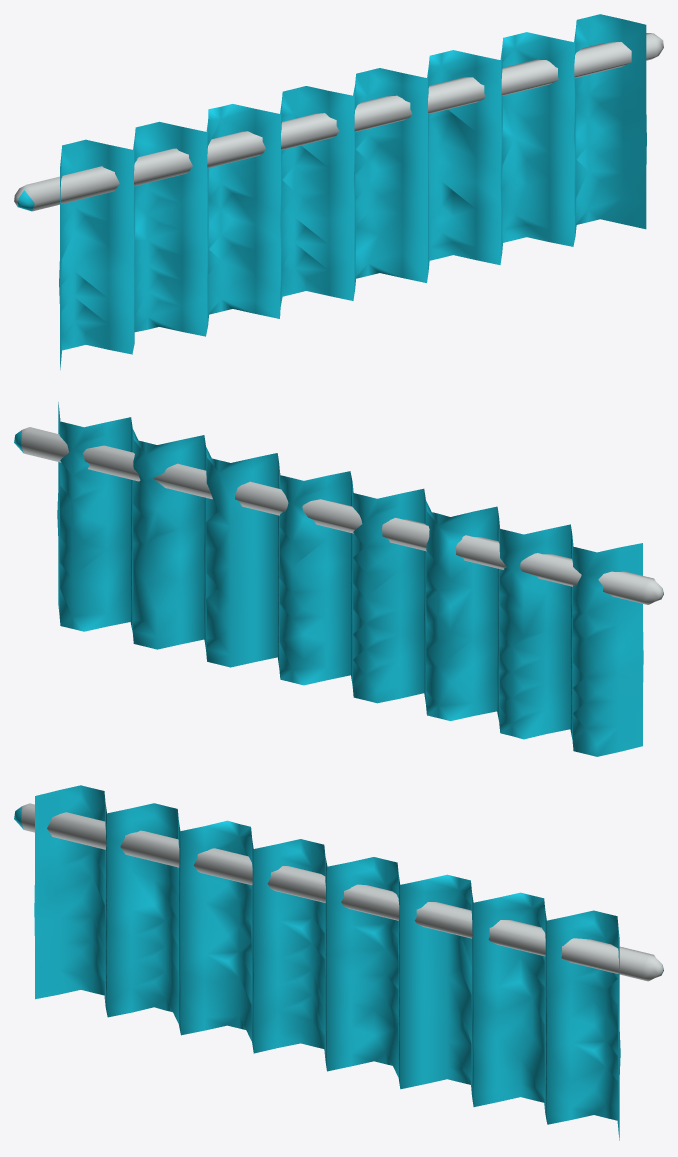
File: curtains02.fbx
3 renders of one model, top to bottom at view 1: azimuth 30°, elevation 25°; view 2: azimuth 150°, elevation 25°; view 3: azimuth 330°, elevation 25°, orthographic.
Parts seen in each view (by area): view 1: Cylinder.002; view 2: Cylinder.002; view 3: Cylinder.002.
Part boxes in pixels (box(x1,y1,x2,y2)): Cylinder.002: box(14, 14, 663, 369); Cylinder.002: box(14, 402, 663, 756); Cylinder.002: box(14, 785, 663, 1140).
Bounding box in the file's own units: 221 × 13.37 × 66.67.
